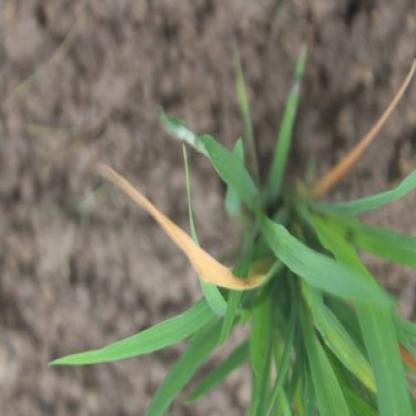Tungro: (114, 175, 259, 301), (309, 78, 416, 194)
